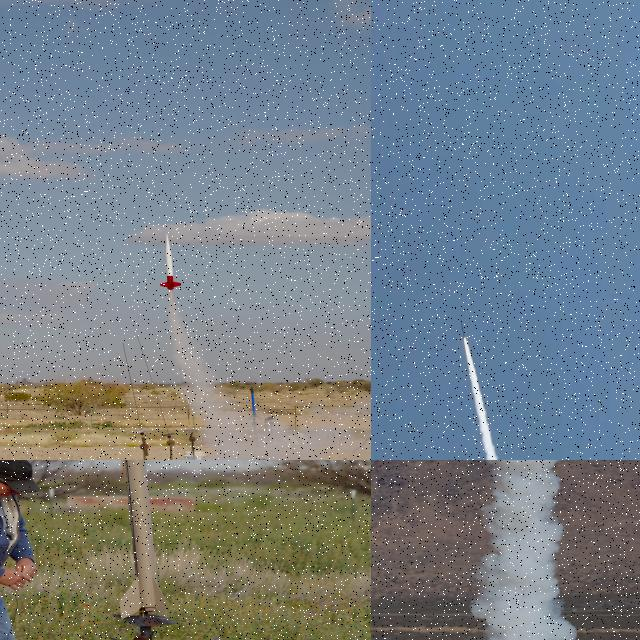Rocket: (115, 460, 174, 623), (159, 233, 182, 291), (460, 319, 466, 339)
